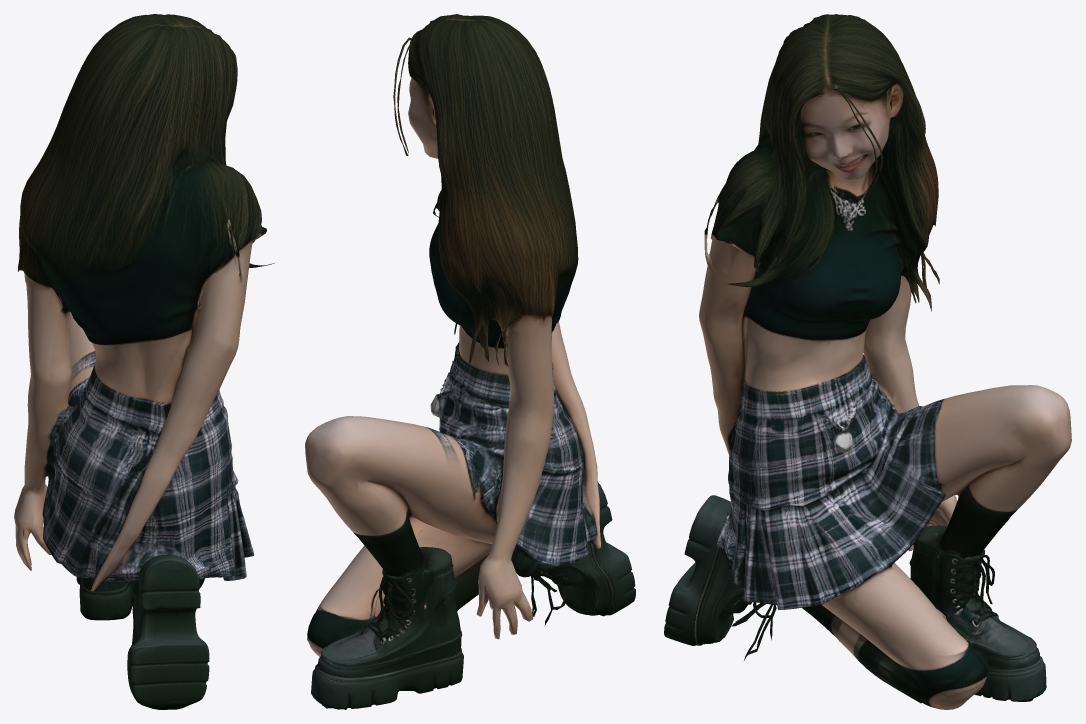
3 renders of one model, left to right at view 1: azimuth 30°, elevation 25°; view 2: azimuth 150°, elevation 25°; view 3: azimuth 270°, elevation 25°, orthographic. The views are drawn at different scales.
Visible parts, largest first — view 1: tripo_node_03d28365-a51c-4136-81ff-8034fce04fa8; view 2: tripo_node_03d28365-a51c-4136-81ff-8034fce04fa8; view 3: tripo_node_03d28365-a51c-4136-81ff-8034fce04fa8.
Boxes of the visible parts, box(x1,y1,x2,y2) form: tripo_node_03d28365-a51c-4136-81ff-8034fce04fa8: box(14, 14, 274, 709); tripo_node_03d28365-a51c-4136-81ff-8034fce04fa8: box(305, 14, 635, 709); tripo_node_03d28365-a51c-4136-81ff-8034fce04fa8: box(664, 14, 1071, 709).
Size of the model in its own units: 0.3598 by 0.9998 by 0.5702.
1 material, 1 textured.
